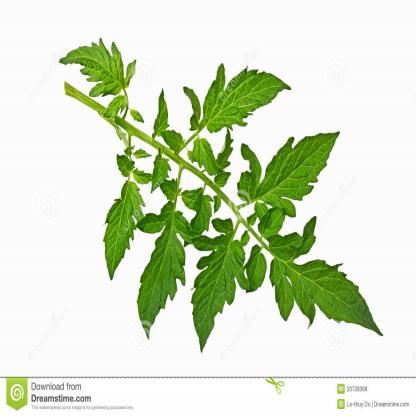Tomato leaf: (278, 250, 394, 344), (129, 194, 198, 338), (189, 210, 250, 356), (184, 68, 304, 141), (247, 130, 348, 216), (56, 23, 144, 115), (94, 172, 154, 274)
